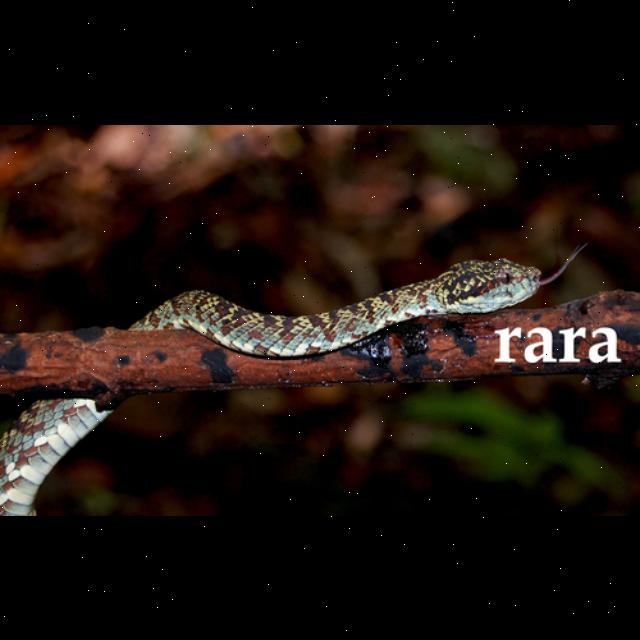snake: (1, 250, 542, 516)
